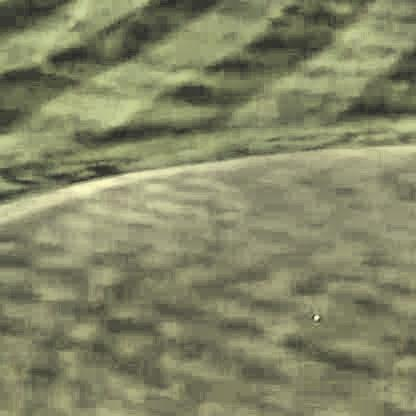golfball: (310, 312, 317, 317)
